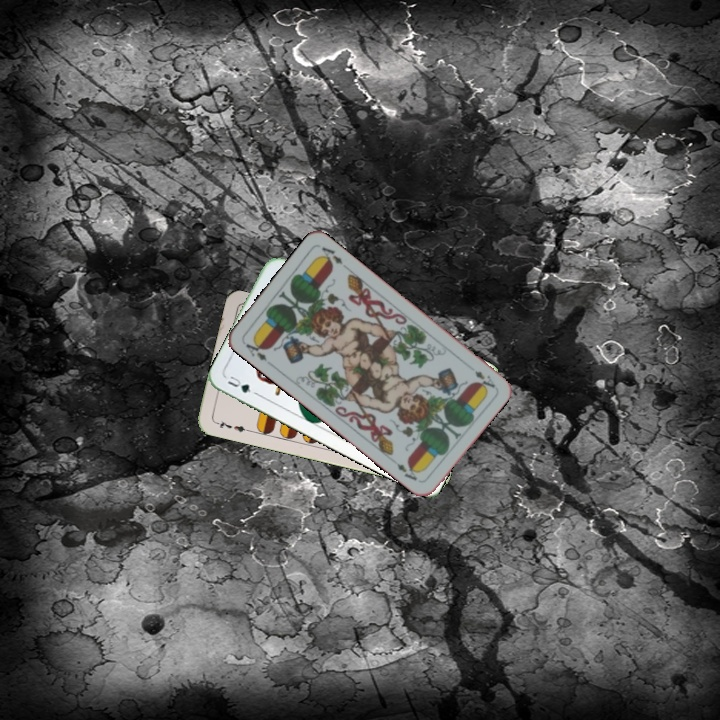E7: (211, 417, 251, 435)
EA: (240, 336, 270, 365), (471, 366, 498, 391)
GU: (223, 371, 260, 398)
